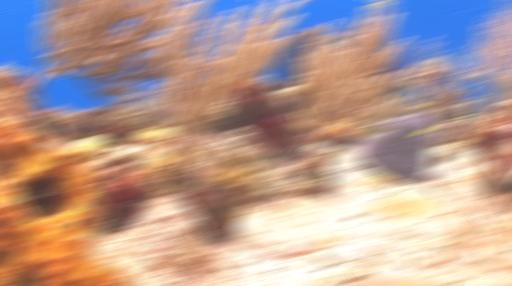Fish: (348, 121, 389, 138), (412, 125, 435, 136), (450, 114, 478, 120), (371, 0, 394, 6), (461, 137, 474, 146), (298, 110, 306, 122), (412, 103, 429, 108), (271, 23, 279, 27)
